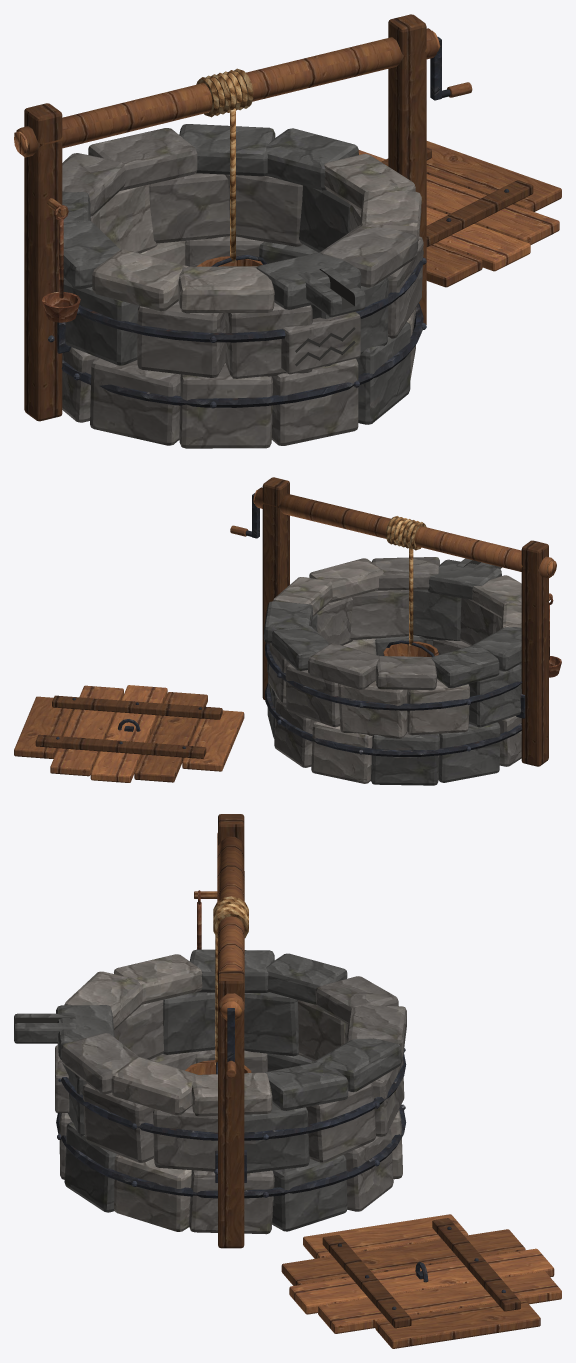
The model's file is rt_water_cistern.glb.
3 views of the same model, one above another, from view 1: azimuth 30°, elevation 25°; view 2: azimuth 150°, elevation 25°; view 3: azimuth 270°, elevation 25° (orthographic). The views are drawn at different scales.
Parts seen in each view (by area): view 1: model; view 2: model; view 3: model.
Boxes of the visible parts, x1,y1,x2,y2 form: model: (14, 14, 561, 448); model: (14, 477, 561, 785); model: (14, 814, 561, 1348).
Size of the model in its own units: 2.44 by 1.12 by 2.07.
Materials: 15 (14 with a texture image).
